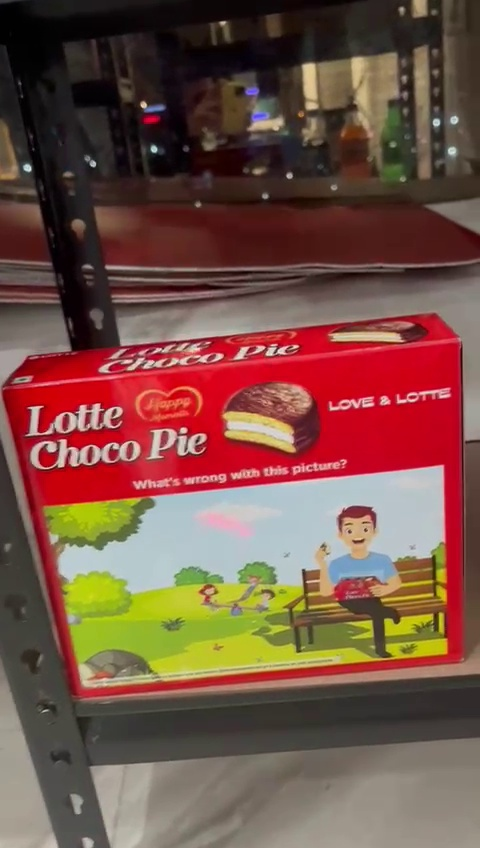Lotte Chocopie: (13, 310, 467, 680)
